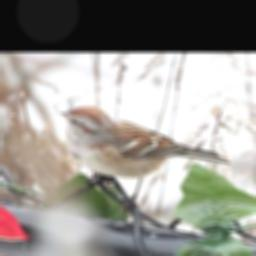Sparrow: (60, 105, 233, 212)
